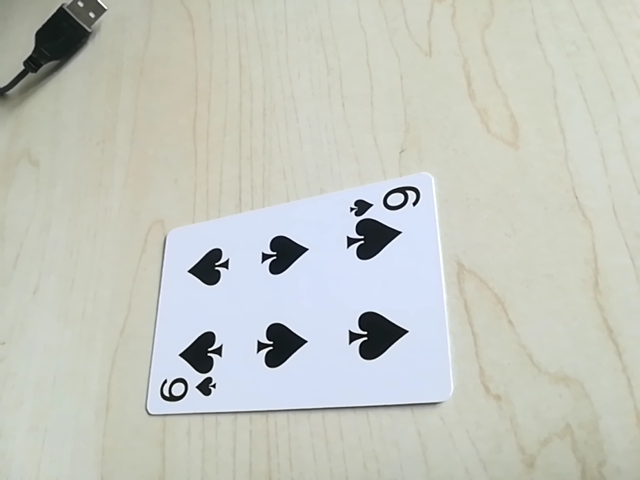ht 6: (348, 184, 421, 220), (152, 372, 220, 410)
